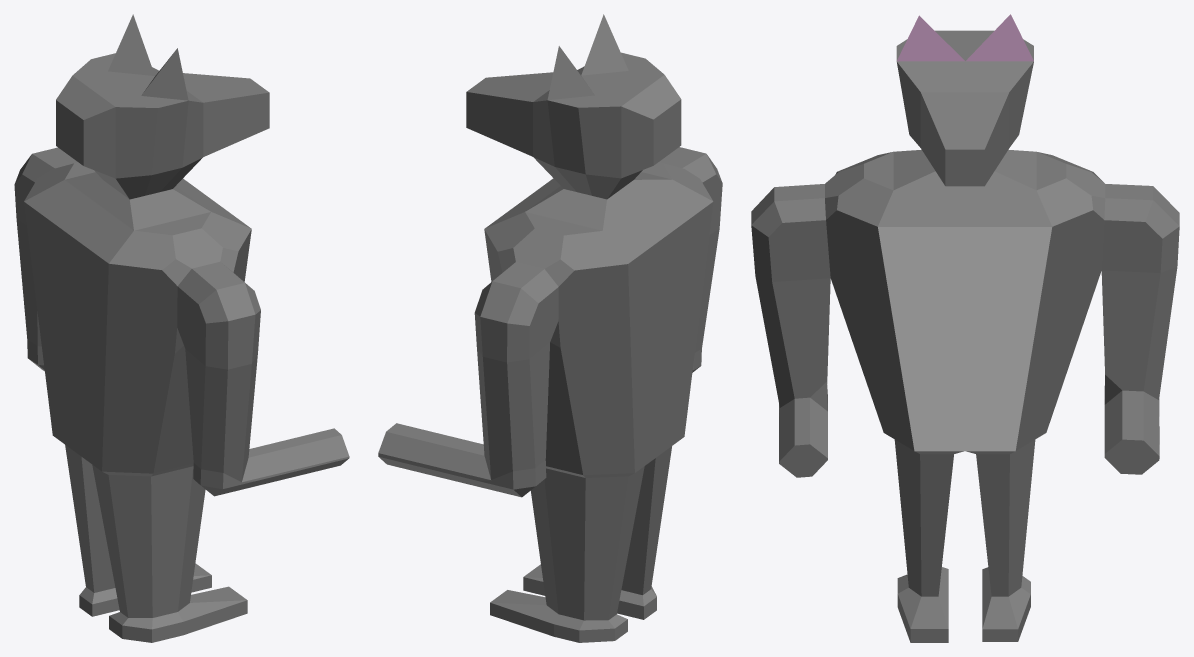
Rendered from husky_model.fbx.
The picture shows the model from 3 angles, left to right: view 1: azimuth 30°, elevation 25°; view 2: azimuth 150°, elevation 25°; view 3: azimuth 270°, elevation 25°; orthographic projection. The views are drawn at different scales.
Parts seen in each view (by area): view 1: Cube; view 2: Cube; view 3: Cube.
Part boxes in pixels (<box>): Cube: <box>14,14,349,642</box>; Cube: <box>378,14,722,642</box>; Cube: <box>751,14,1179,642</box>.
Bounding box in the file's own units: 276 × 780 × 508.
